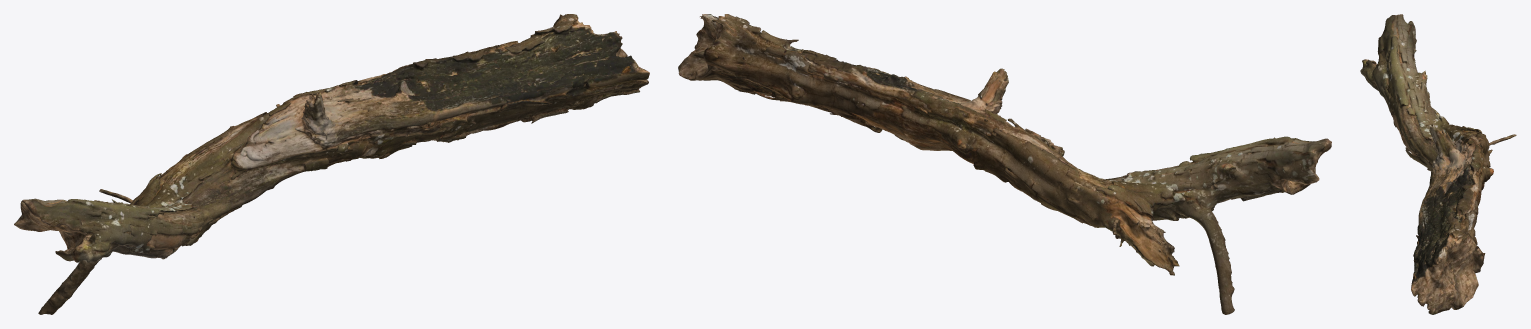
File: dead_burnt_tree.glb
3 renders of one model, left to right at view 1: azimuth 30°, elevation 25°; view 2: azimuth 150°, elevation 25°; view 3: azimuth 270°, elevation 25°, orthographic. The views are drawn at different scales.
Parts seen in each view (by area): view 1: dead_tree_trunk_02; view 2: dead_tree_trunk_02; view 3: dead_tree_trunk_02.
Boxes of the visible parts, x1,y1,x2,y2 form: dead_tree_trunk_02: (14, 14, 649, 314); dead_tree_trunk_02: (678, 14, 1331, 314); dead_tree_trunk_02: (1360, 14, 1516, 314).
Bounding box in the file's own units: 4.05 × 1.06 × 1.06.
Materials: 1 (1 with a texture image).
